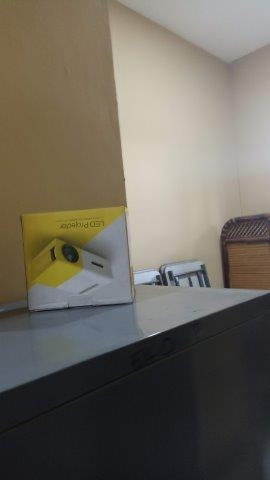kardus: (21, 207, 132, 310)
